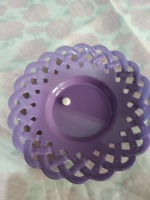Yuvarlak Buskopan: (61, 96, 71, 107)
